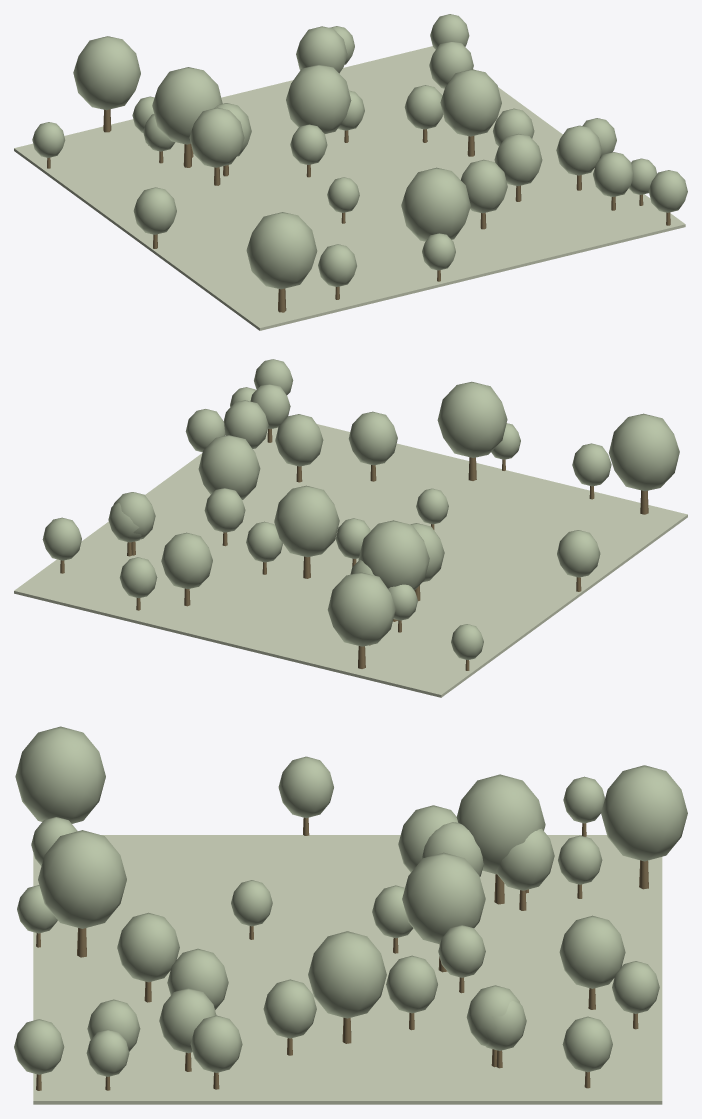
3 renders of one model, top to bottom at view 1: azimuth 30°, elevation 25°; view 2: azimuth 150°, elevation 25°; view 3: azimuth 270°, elevation 25°, orthographic. The views are drawn at different scales.
Visible parts, largest first — view 1: terrain, lod-near-0, lod-near-7, lod-near-6, lod-near-30, lod-near-19, lod-near-24, lod-near-22, lod-near-27, lod-near-31, lod-near-5, lod-near-28 (+18 smaller); view 2: terrain, lod-near-0, lod-near-7, lod-near-6, lod-near-19, lod-near-30, lod-near-24, lod-near-28, lod-near-31, lod-near-27, lod-near-4, lod-near-5 (+16 smaller); view 3: terrain, lod-near-0, lod-near-7, lod-near-6, lod-near-19, lod-near-30, lod-near-24, lod-near-28, lod-near-31, lod-near-4, lod-near-10, lod-near-14 (+20 smaller).
Part boxes in pixels (x1,y1,x2,y2): terrain: [14, 46, 685, 330]; lod-near-0: [246, 212, 317, 289]; lod-near-7: [401, 167, 470, 241]; lod-near-6: [73, 36, 140, 110]; lod-near-30: [152, 67, 222, 144]; lod-near-19: [286, 64, 351, 133]; lod-near-24: [440, 69, 501, 136]; lod-near-22: [189, 107, 244, 167]; lod-near-27: [494, 134, 542, 185]; lod-near-31: [461, 159, 507, 213]; lod-near-5: [556, 125, 601, 175]; lod-near-28: [296, 26, 347, 73]; terrain: [14, 424, 687, 697]; lod-near-0: [609, 413, 679, 491]; lod-near-7: [437, 381, 507, 457]; lod-near-6: [327, 572, 395, 646]; lod-near-19: [274, 485, 339, 557]; lod-near-30: [358, 520, 429, 590]; lod-near-24: [198, 435, 260, 499]; lod-near-28: [161, 532, 212, 589]; lod-near-31: [348, 411, 397, 465]; lod-near-27: [275, 414, 323, 466]; lod-near-4: [557, 530, 600, 577]; lod-near-5: [223, 400, 268, 448]; terrain: [33, 835, 662, 1104]; lod-near-0: [15, 726, 105, 823]; lod-near-7: [38, 830, 126, 928]; lod-near-6: [601, 765, 687, 861]; lod-near-19: [402, 852, 485, 944]; lod-near-30: [456, 774, 545, 874]; lod-near-24: [308, 931, 386, 1018]; lod-near-28: [559, 915, 625, 988]; lod-near-31: [117, 912, 179, 982]; lod-near-4: [278, 756, 333, 818]; lod-near-10: [263, 979, 316, 1038]; lod-near-14: [496, 828, 554, 890].
Size of the model in its own units: 33.4 by 7.31 by 34.29.
